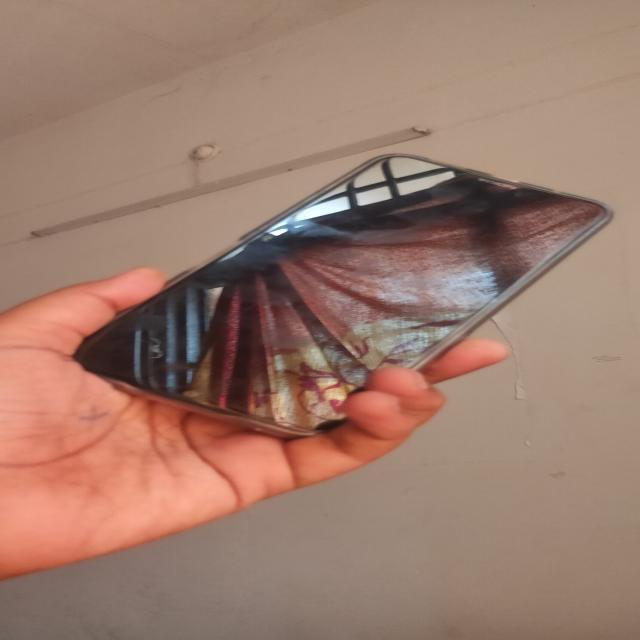Phone: (72, 147, 616, 444)
